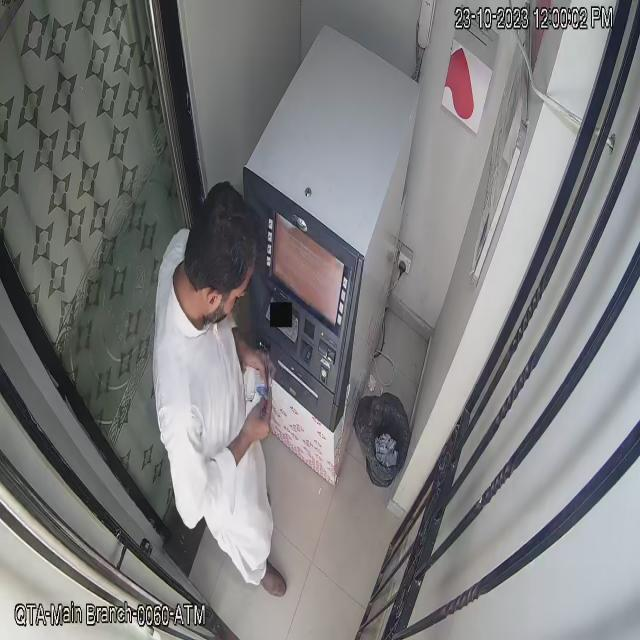note: (241, 356, 277, 413)
